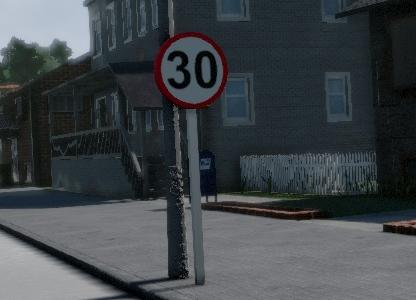Speed_30: (255, 3, 348, 101)
